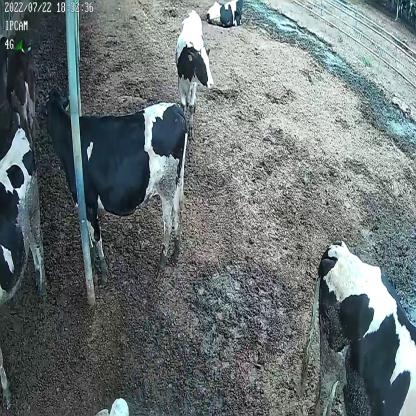cow: (42, 84, 189, 280), (175, 8, 215, 131), (4, 33, 38, 143), (204, 2, 244, 29)
